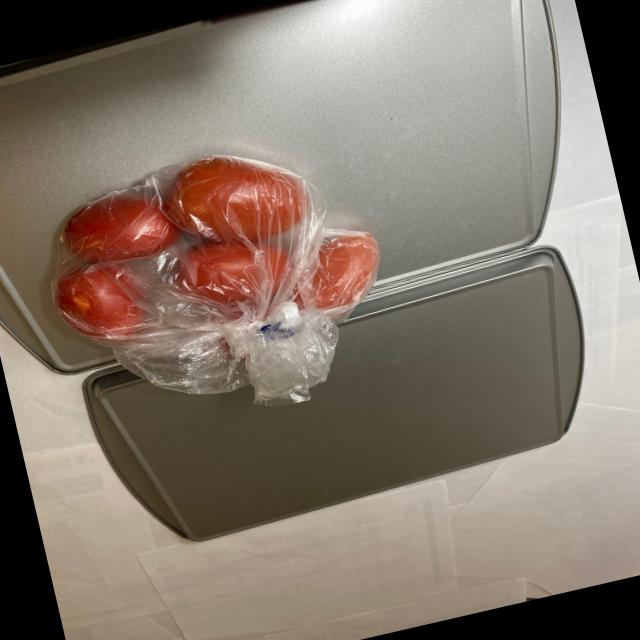tomato: (31, 122, 404, 428)
